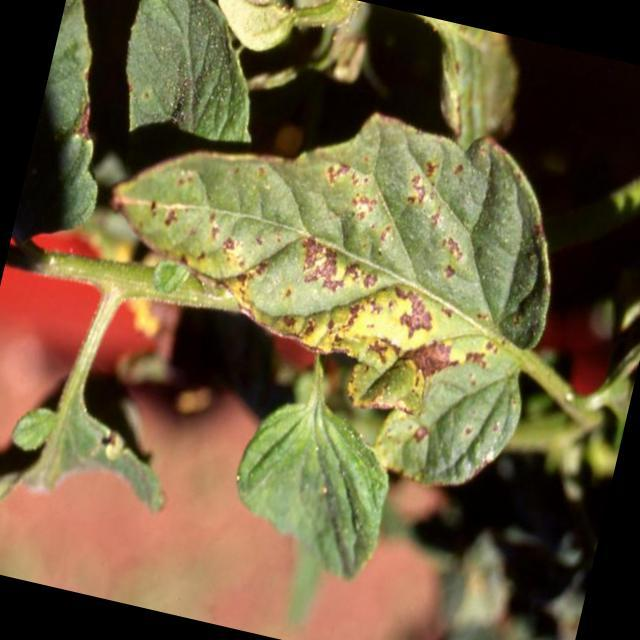Tomato leaf bacterial spot: (104, 155, 580, 402)
